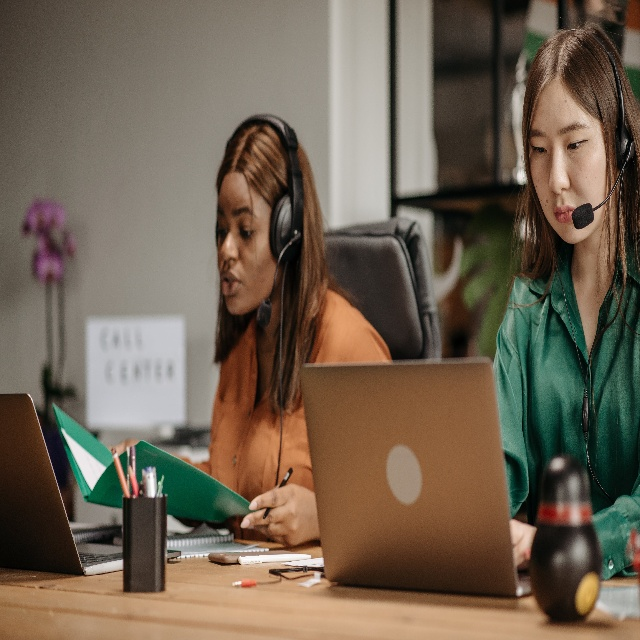Sin_guantes: (240, 483, 323, 547), (509, 518, 538, 568)
